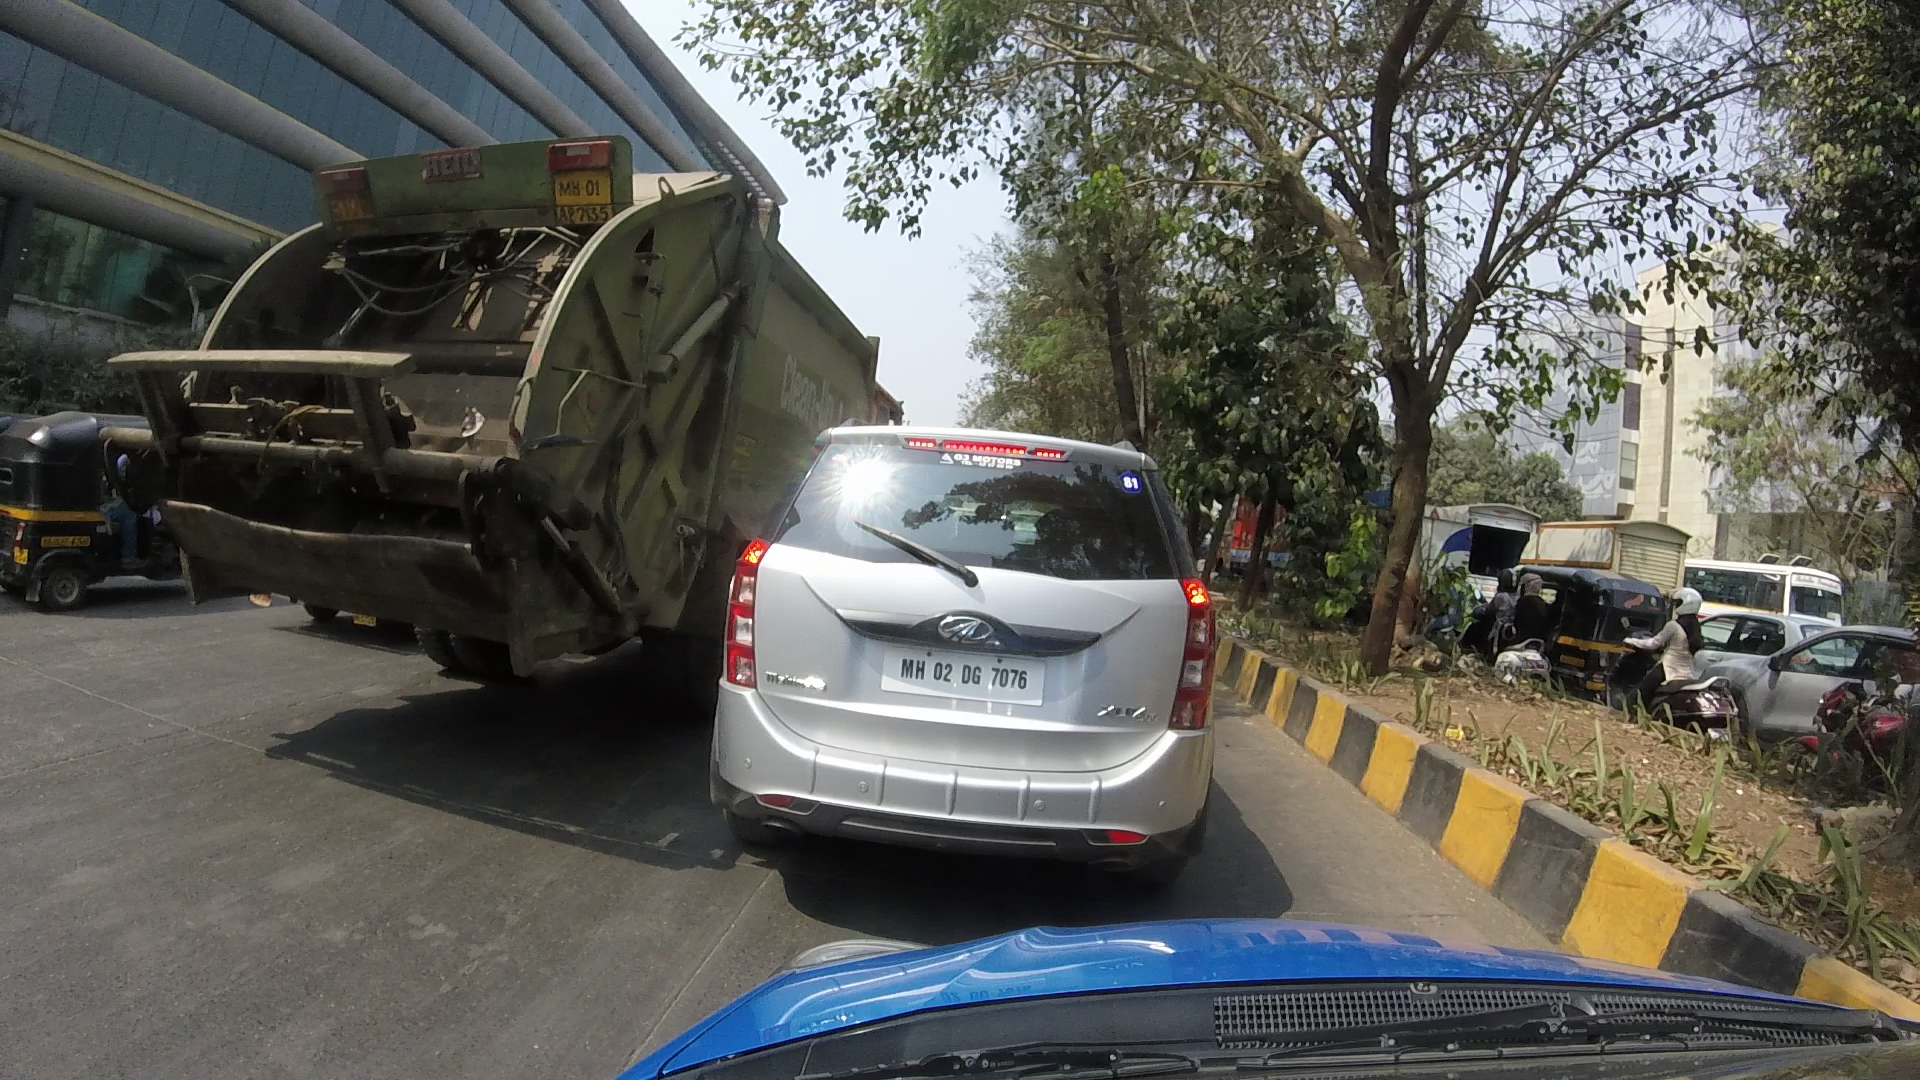car: (676, 375, 1240, 862)
rickshaw: (7, 404, 189, 592)
truck: (154, 92, 898, 684)
